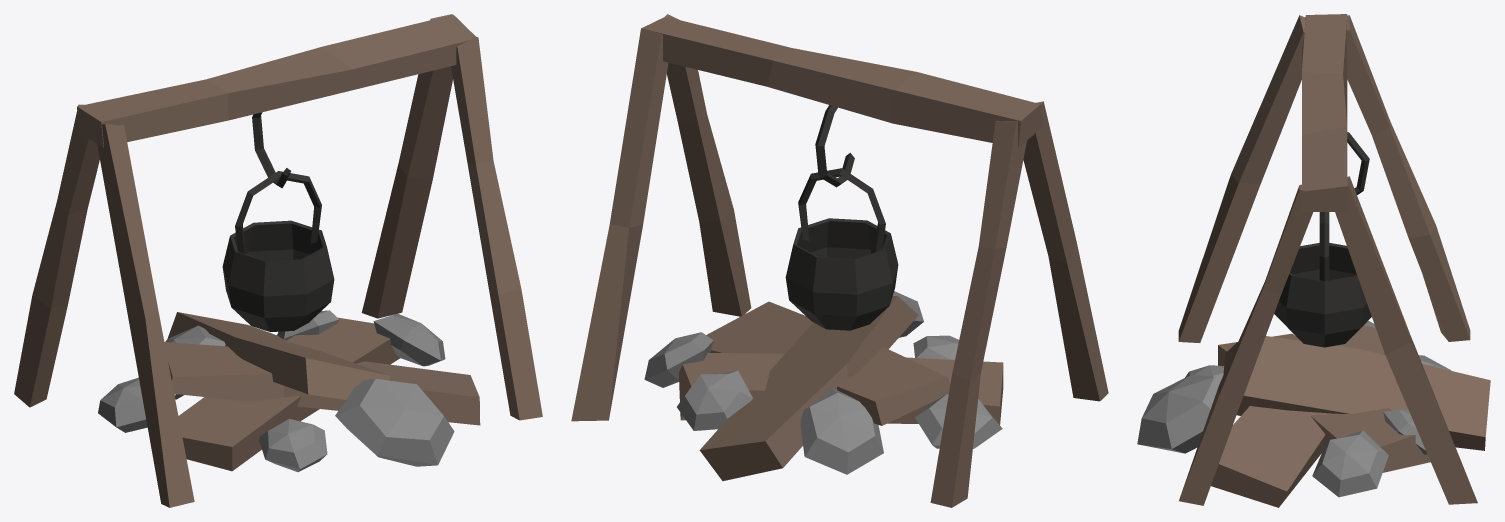
File: cooking_pot.glb
3 views of the same model, side by side, from view 1: azimuth 30°, elevation 25°; view 2: azimuth 150°, elevation 25°; view 3: azimuth 270°, elevation 25° (orthographic). The views are drawn at different scales.
Visible parts, largest first — view 1: Sphere.013; view 2: Sphere.013; view 3: Sphere.013.
Part boxes in pixels (x1,y1,x2,y2): Sphere.013: (14,14,542,507); Sphere.013: (571,14,1108,507); Sphere.013: (1137,14,1490,507).
Bounding box in the file's own units: 1.68 × 1.51 × 1.44.
